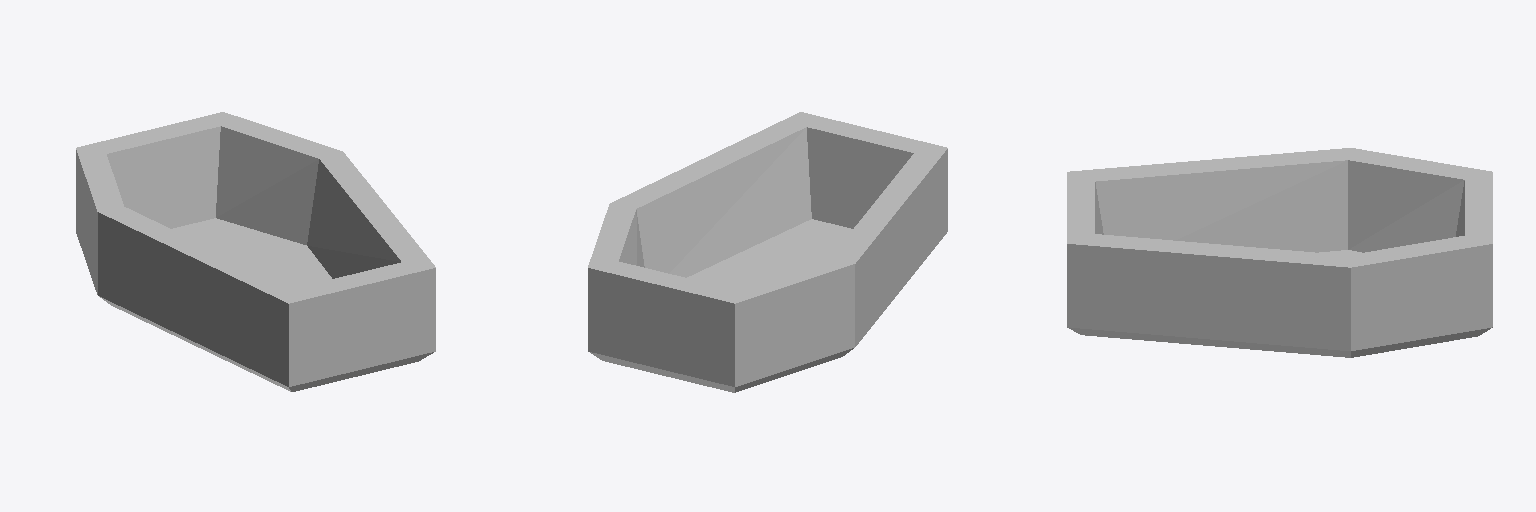
The model's file is coffin.obj.
The picture shows the model from 3 angles: view 1: azimuth 30°, elevation 25°; view 2: azimuth 150°, elevation 25°; view 3: azimuth 270°, elevation 25°; orthographic projection.
Visible parts, largest first — view 1: coffin_Cube.118; view 2: coffin_Cube.118; view 3: coffin_Cube.118.
Boxes of the visible parts, x1,y1,x2,y2 form: coffin_Cube.118: [76, 112, 435, 391]; coffin_Cube.118: [588, 112, 947, 392]; coffin_Cube.118: [1067, 148, 1492, 357].
Size of the model in its own units: 2 by 0.75 by 3.